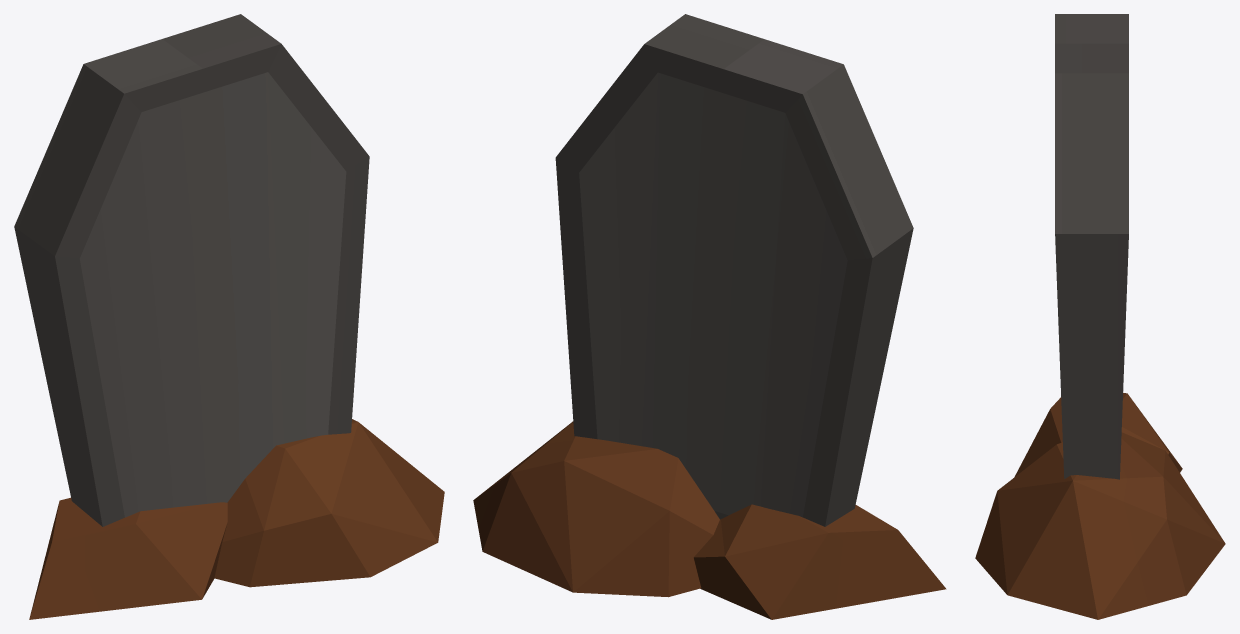
The model's file is 3d-torres-alejandro-lapida.glb.
3 renders of one model, left to right at view 1: azimuth 30°, elevation 25°; view 2: azimuth 150°, elevation 25°; view 3: azimuth 270°, elevation 25°, orthographic. The views are drawn at different scales.
Visible parts, largest first — view 1: Sphere.002; view 2: Sphere.002; view 3: Sphere.002.
Boxes of the visible parts, <box> form: Sphere.002: <box>14,14,444,619</box>; Sphere.002: <box>473,14,946,619</box>; Sphere.002: <box>975,14,1225,619</box>.
Size of the model in its own units: 0.7679 by 0.8489 by 0.4144.
Materials: 1 (1 with a texture image).
